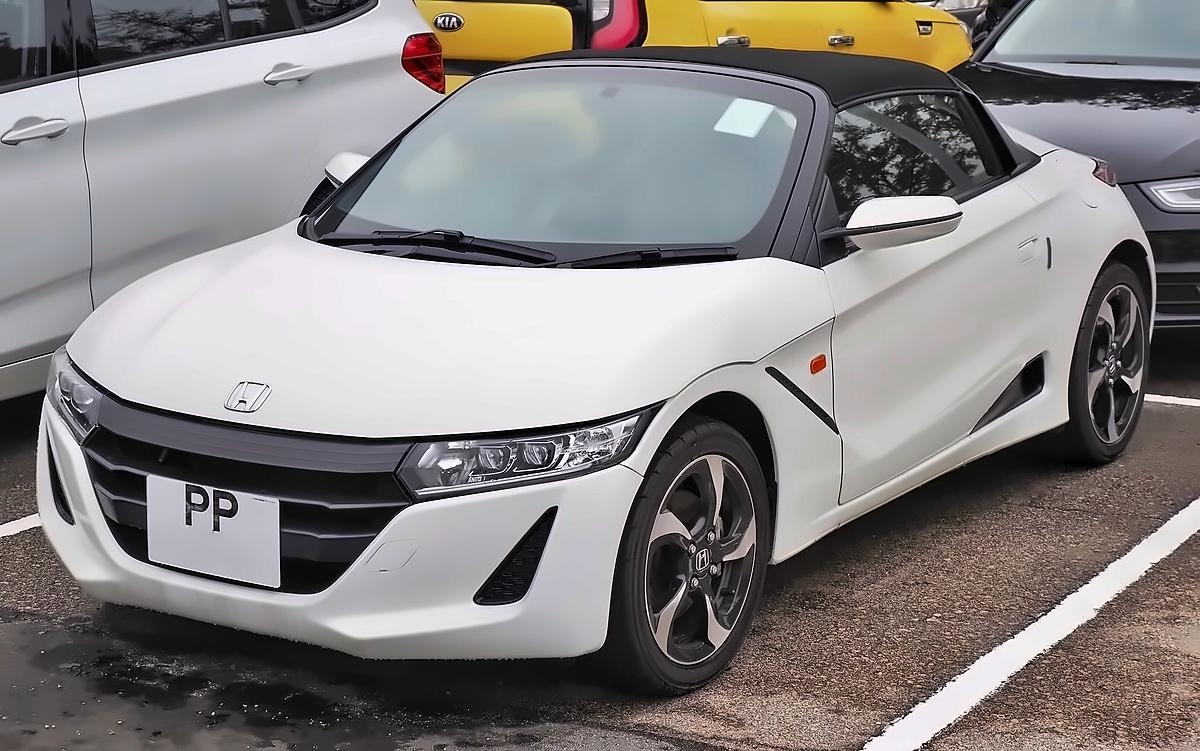Car hood: (63, 216, 829, 431)
Fender - -F-L-: (616, 311, 848, 577)
Fender - -R-L-: (1010, 140, 1167, 446)
Front bumper: (26, 404, 649, 679)
Headlight - -L-: (392, 393, 669, 507)
Headlight - -R-: (41, 343, 104, 446)
Passenger-s door - -F-L-: (796, 59, 1055, 538)
Side bumper - -L-: (754, 394, 1075, 641)
Side mirror - -L-: (825, 185, 962, 266)
